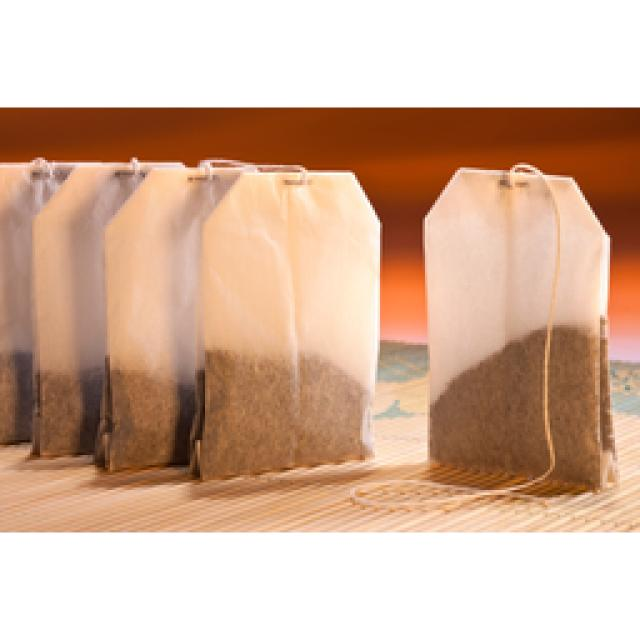tea-bags: (0, 158, 378, 478), (422, 165, 612, 485)
